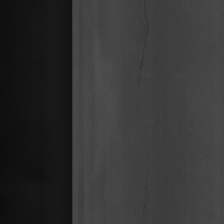inclusion: (136, 5, 153, 100)
